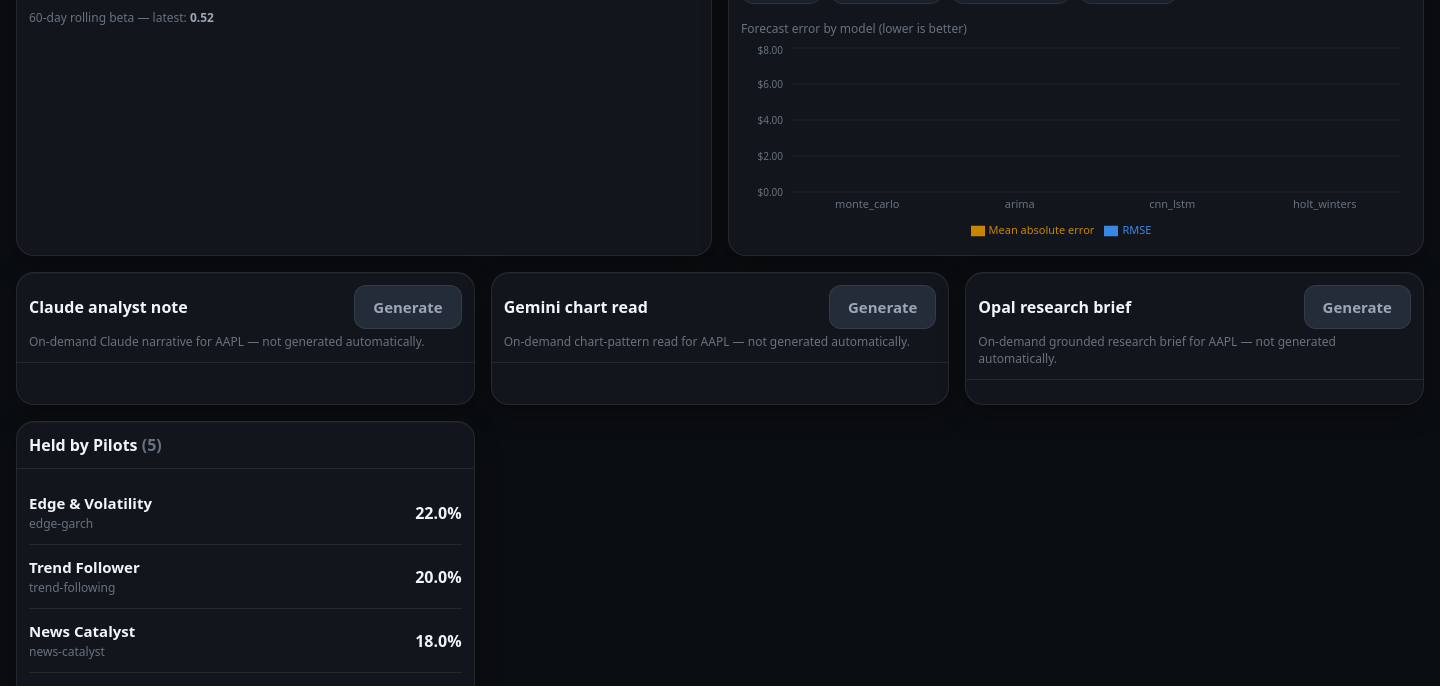
Test: SymbolDetail screen (real mock API) › On-demand AI generation cards › Opal research brief: Generate renders thesis context / catalysts / risk factors / recent developments / sources for a known symbol
The image size is (1440, 686).
(page scrolled)
Click the button "Generate" in the row of "Opal research brief" at (1357, 307), box [1304,285,1411,329]
(page scrolled)
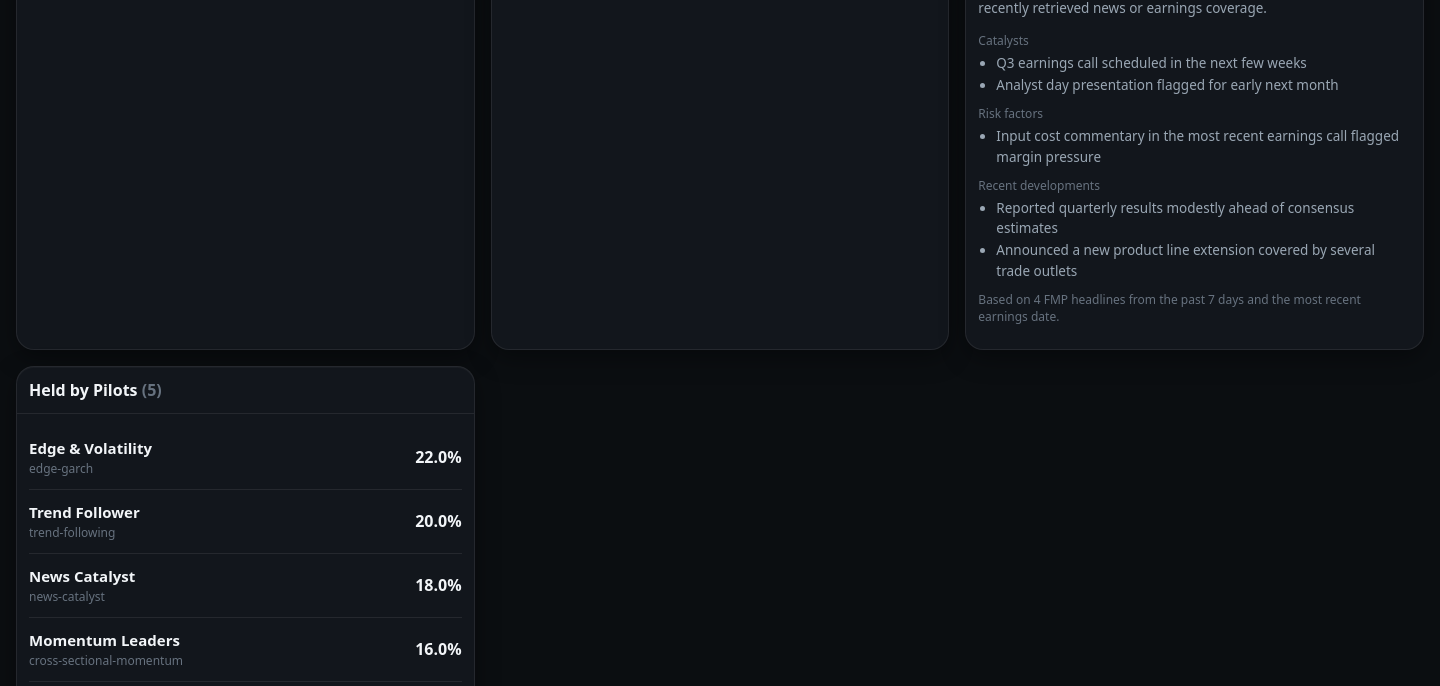
Now the list item "Q3 earnings call scheduled in the next few weeks" is shown, box [996,54,1307,72]
Now the text "Catalysts" is shown, box [978,32,1029,49]
Now the text "Risk factors" is shown, box [978,105,1043,122]
